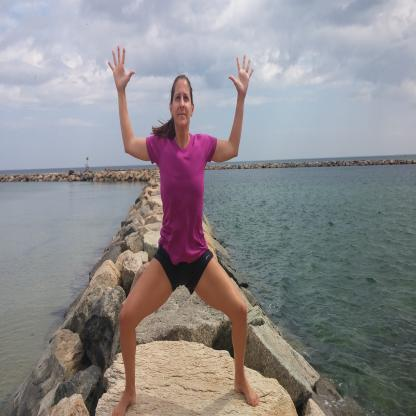godness: (103, 36, 266, 414)
